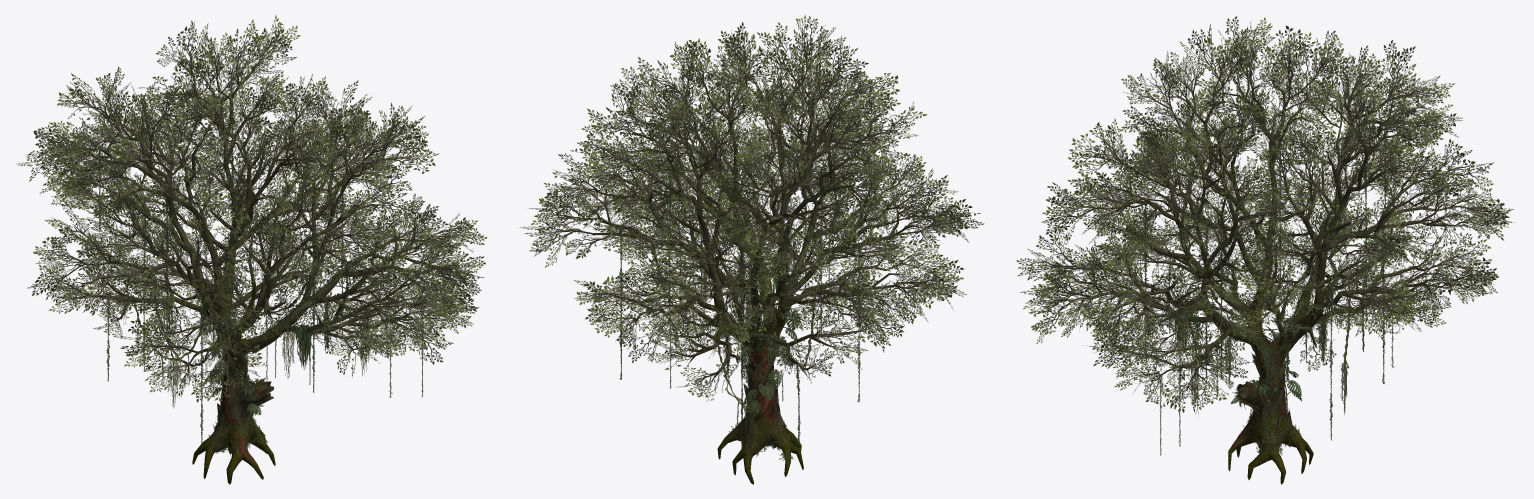
File: century-tree.glb
3 renders of one model, left to right at view 1: azimuth 30°, elevation 25°; view 2: azimuth 150°, elevation 25°; view 3: azimuth 270°, elevation 25°, orthographic. The views are drawn at different scales.
Parts seen in each view (by area): view 1: TreeGen; view 2: TreeGen; view 3: TreeGen.
Part boxes in pixels (x1=…): TreeGen: x1=16, y1=15, x2=487, y2=484; TreeGen: x1=519, y1=15, x2=984, y2=484; TreeGen: x1=1016, y1=16, x2=1514, y2=484.
Size of the model in its own units: 21.12 by 22.48 by 24.06.
6 materials, 6 textured.
